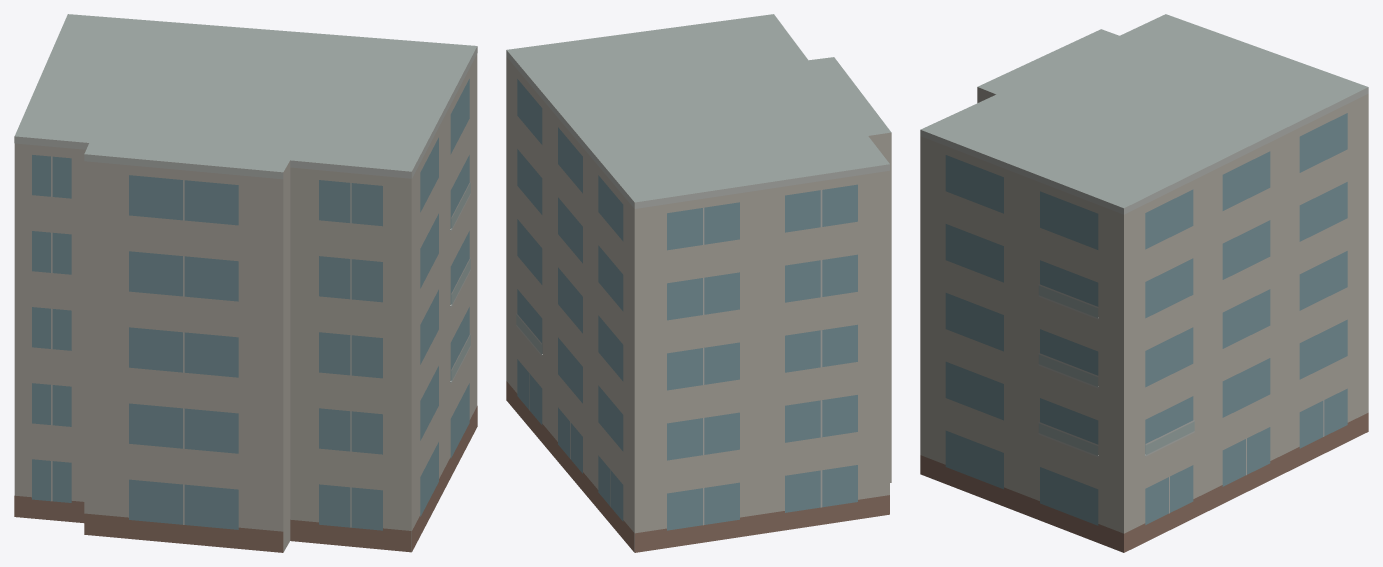
File: survey-upis-32533420.glb
3 renders of one model, left to right at view 1: azimuth 30°, elevation 25°; view 2: azimuth 150°, elevation 25°; view 3: azimuth 270°, elevation 25°, orthographic. The views are drawn at different scales.
Parts seen in each view (by area): view 1: survey-upis-32533420.tmp; view 2: survey-upis-32533420.tmp; view 3: survey-upis-32533420.tmp.
Part boxes in pixels (x1=…): survey-upis-32533420.tmp: x1=14, y1=14, x2=477, y2=552; survey-upis-32533420.tmp: x1=506, y1=14, x2=891, y2=552; survey-upis-32533420.tmp: x1=920, y1=14, x2=1368, y2=552.
Bounding box in the file's own units: 15.85 × 13.1 × 15.46.
